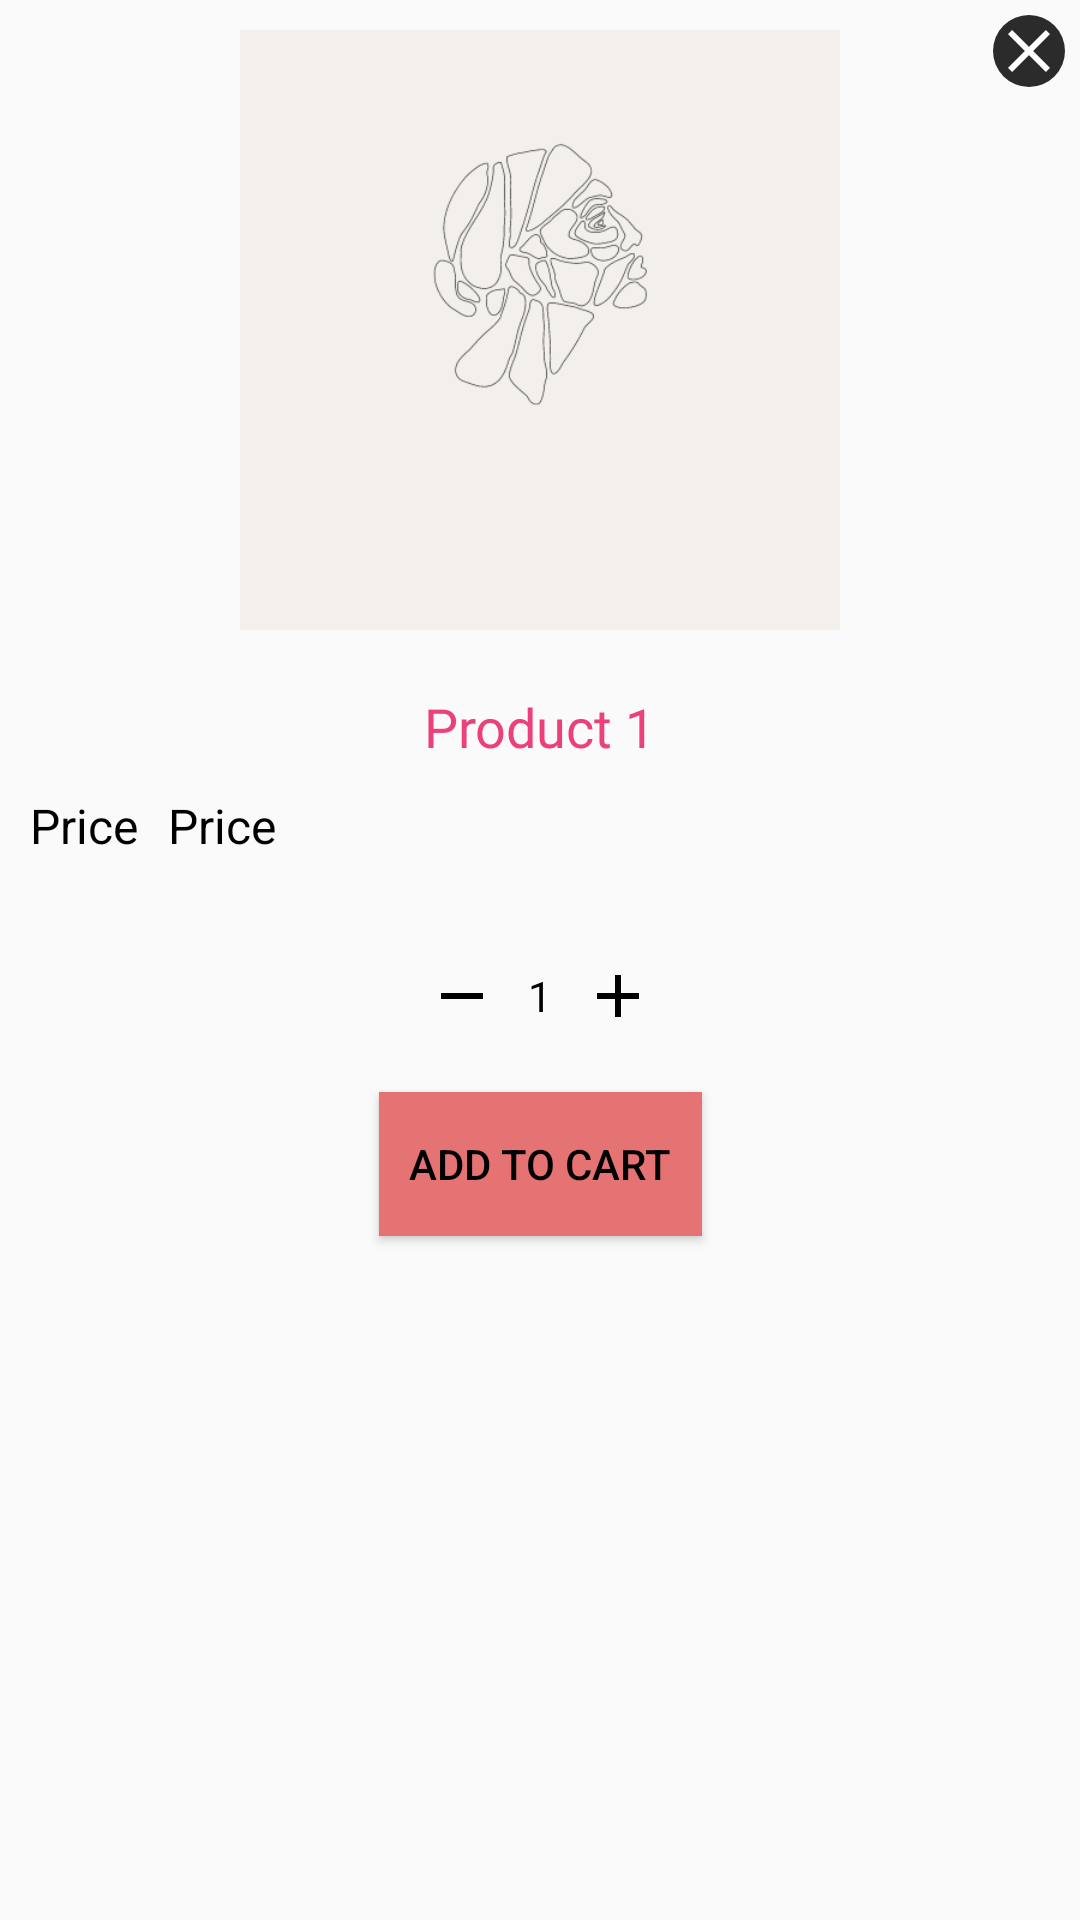

Where icons sit on this 1080 x 1920 app screen, as (x1, y1, x2, y2):
clear: (993, 15, 1065, 87)
